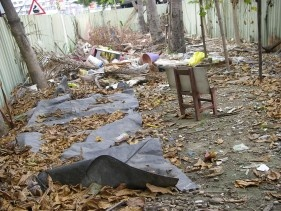bucket: (84, 54, 104, 70), (141, 52, 160, 65)
plastic_bag: (38, 133, 202, 191), (24, 90, 143, 131)
